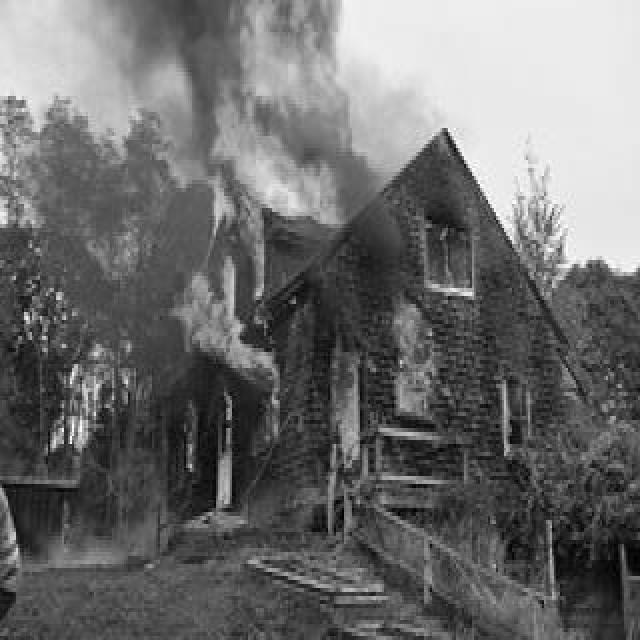fire: (216, 2, 354, 238), (184, 274, 280, 408), (388, 290, 434, 430), (326, 346, 370, 478), (180, 410, 198, 478)
smoke: (42, 270, 186, 386), (24, 508, 172, 576), (348, 150, 410, 290)
